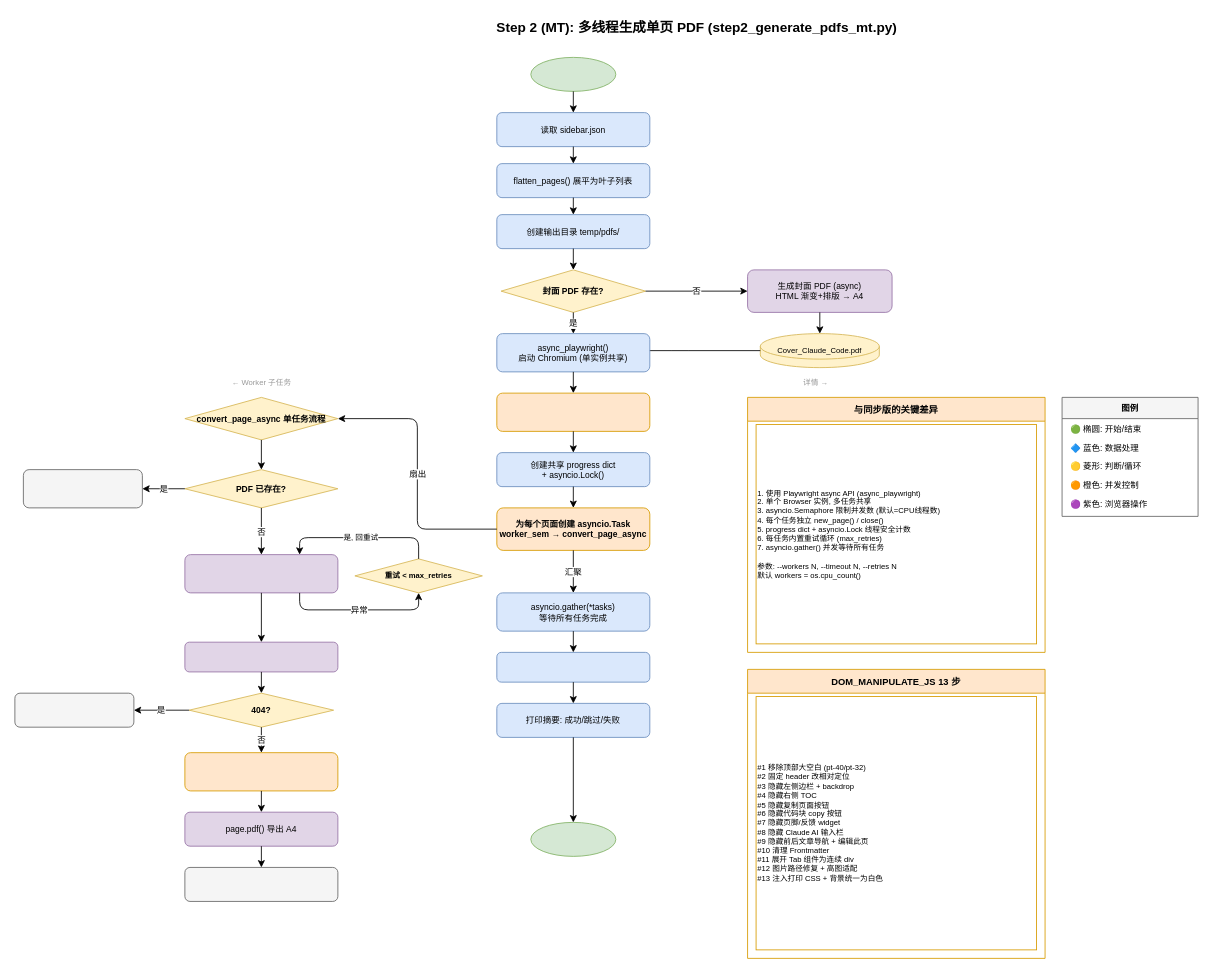
This 1213x973 diagram has some shape labels left out. The shapes that lost their labels are listed below. From the top down, each one's centre as x and y in pixels, then its label:
At pixel 573 74: "开始".
At pixel 573 411: "Semaphore(N workers) 限制并发数".
At pixel 82 488: "⏭ 跳过 (幂等) progress[skipped]++".
At pixel 261 573: "browser.new_page() page.goto(url, networkidle)".
At pixel 261 656: "wait 3000ms".
At pixel 573 667: "关闭 browser".
At pixel 74 709: "page.close() progress[failed]++".
At pixel 261 771: "page.evaluate(DOM_MANIPULATE_JS) + wait 3000ms".
At pixel 573 839: "完成".
At pixel 261 884: "page.close() progress[success]++".
